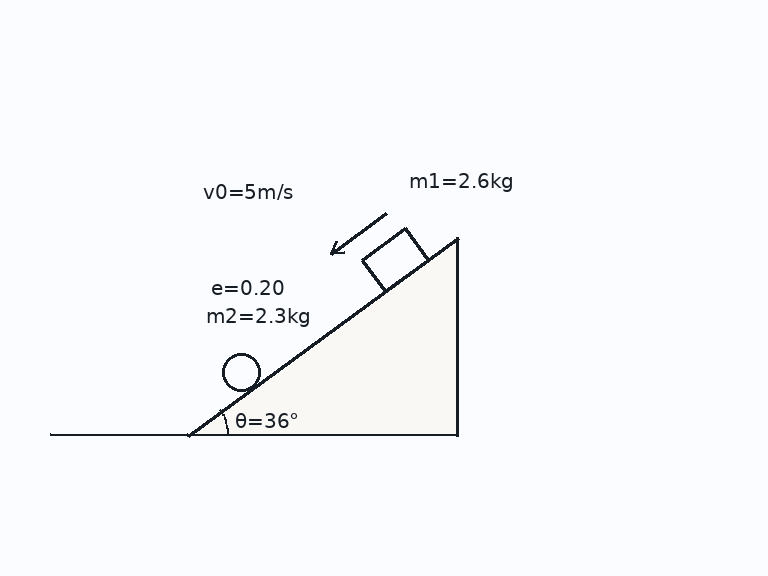ball: (220, 351, 262, 393)
block: (359, 226, 430, 293)
ramp: (186, 236, 459, 436)
